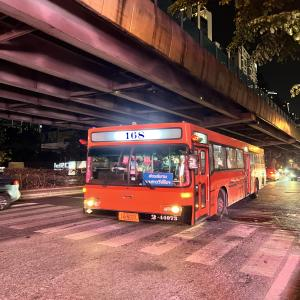BMTA-bus: (83, 122, 267, 226)
Bus Line Number: (122, 130, 148, 141)
Bus Side Number: (150, 212, 179, 222)
Destination Sign: (143, 172, 174, 188)
